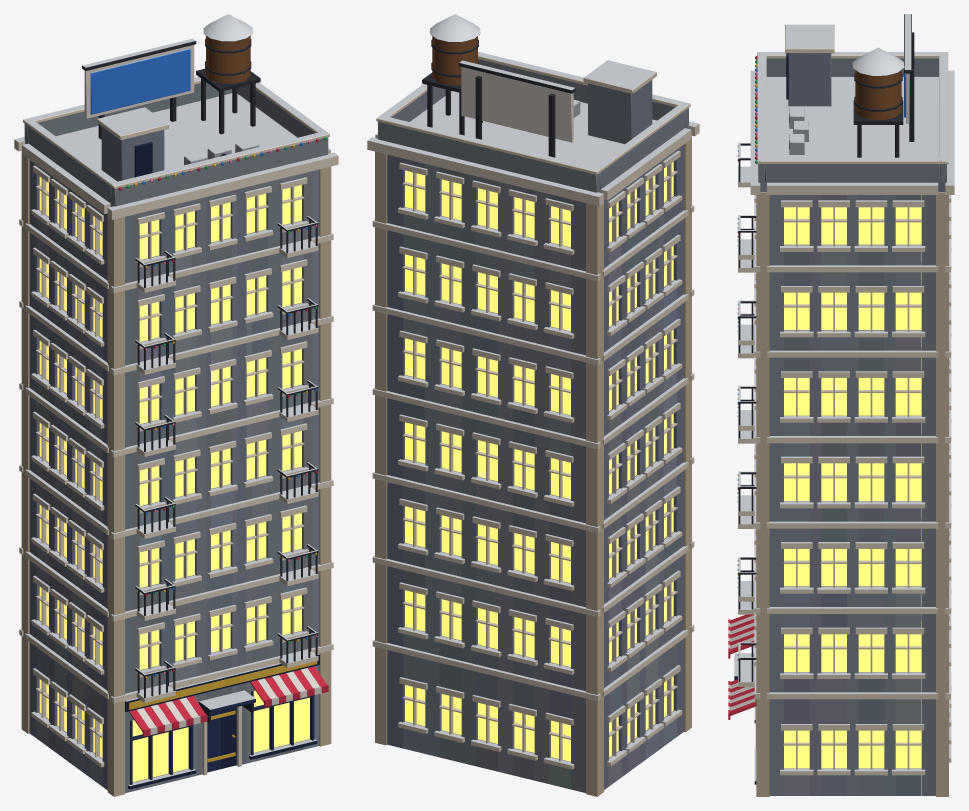
File: Apartment_Grey.glb
3 views of the same model, side by side, from view 1: azimuth 30°, elevation 25°; view 2: azimuth 150°, elevation 25°; view 3: azimuth 270°, elevation 25° (orthographic). The views are drawn at different scales.
Visible parts, largest first — view 1: Apartment_Grey_Walls, Apartment_Grey_Trim, Apartment_Grey_Roof, Apartment_Grey_Glow, Apartment_Grey_Balconies, Apartment_Grey_Shopfront, Apartment_Grey_Lights; view 2: Apartment_Grey_Walls, Apartment_Grey_Trim, Apartment_Grey_Roof, Apartment_Grey_Glow; view 3: Apartment_Grey_Walls, Apartment_Grey_Trim, Apartment_Grey_Roof, Apartment_Grey_Glow, Apartment_Grey_Balconies, Apartment_Grey_Shopfront, Apartment_Grey_Lights.
Part boxes in pixels (x1,y1,x2,y2): Apartment_Grey_Walls: (25,93,319,793); Apartment_Grey_Trim: (14,137,338,796); Apartment_Grey_Roof: (23,14,329,206); Apartment_Grey_Glow: (39,177,309,781); Apartment_Grey_Balconies: (135,216,318,702); Apartment_Grey_Shopfront: (125,653,328,775); Apartment_Grey_Lights: (118,136,326,678); Apartment_Grey_Walls: (387,91,688,792); Apartment_Grey_Trim: (367,121,699,796); Apartment_Grey_Roof: (376,14,690,192); Apartment_Grey_Glow: (405,162,673,761); Apartment_Grey_Walls: (760,76,945,795); Apartment_Grey_Trim: (750,70,954,796); Apartment_Grey_Roof: (757,14,948,182); Apartment_Grey_Glow: (784,195,921,768); Apartment_Grey_Balconies: (738,142,756,686); Apartment_Grey_Shopfront: (728,614,756,747); Apartment_Grey_Lights: (737,55,757,660).
Bounding box in the file's own units: 31.8 × 93.65 × 26.42.
